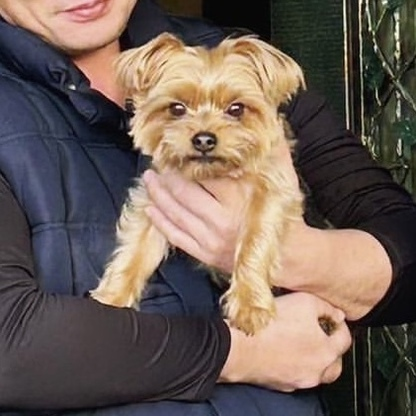yorkshire: (118, 29, 300, 181)
